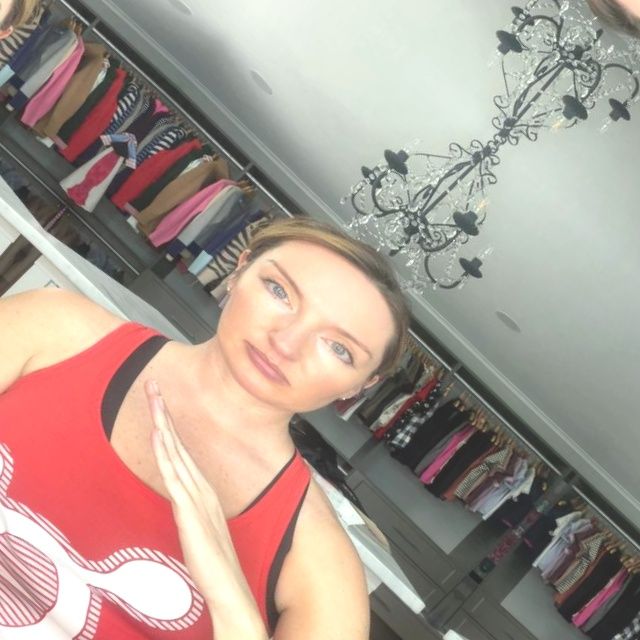Paper: (62, 372, 329, 633)
